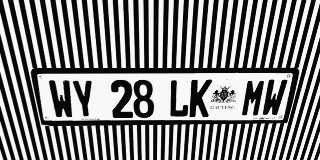2: (110, 80, 133, 118)
8: (132, 80, 154, 118)
K: (189, 79, 212, 117)
L: (168, 80, 191, 117)
M: (240, 79, 267, 117)
W: (47, 80, 75, 119), (260, 79, 288, 116)
Y: (70, 80, 96, 118)
